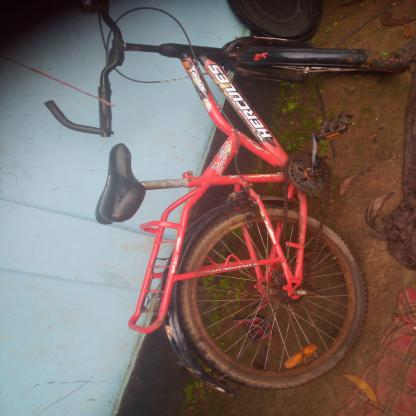bicycle: (33, 1, 375, 398)
